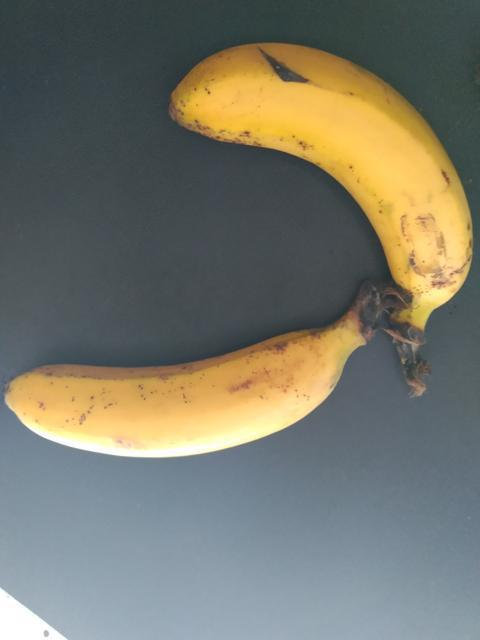ripe: (168, 46, 472, 330), (0, 310, 403, 482)
